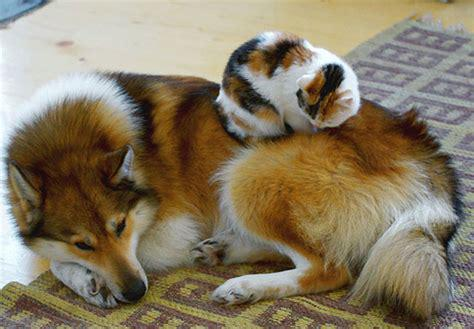cat: (218, 32, 359, 138)
dog: (4, 71, 459, 312)
